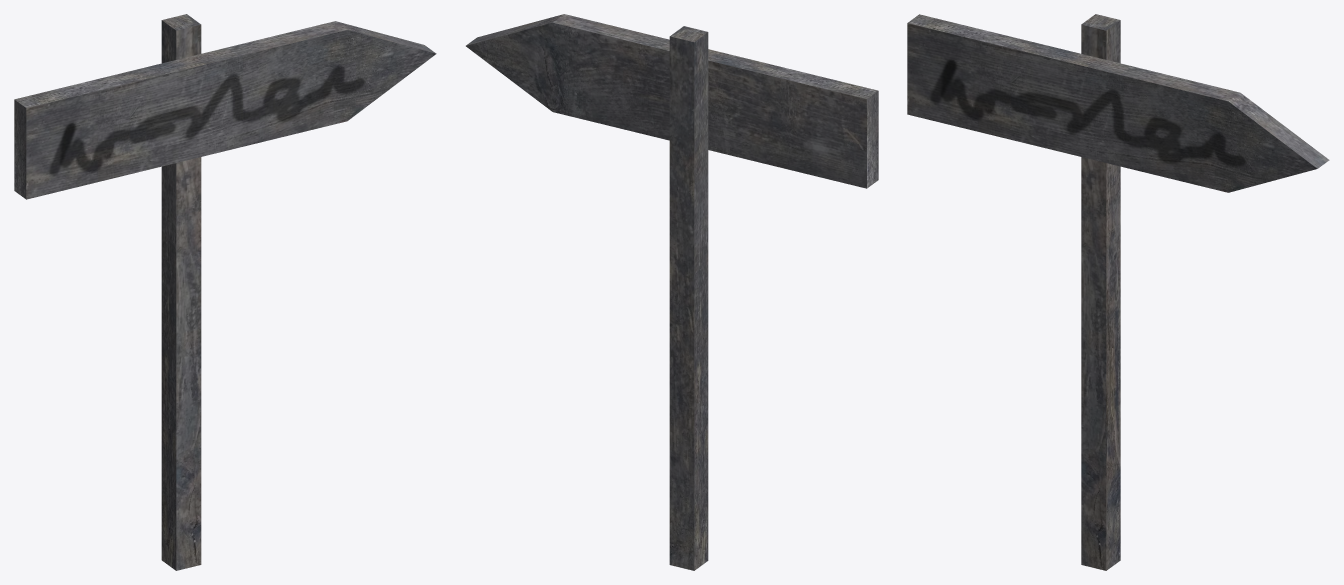
File: sign.glb
The picture shows the model from 3 angles, left to right: view 1: azimuth 30°, elevation 25°; view 2: azimuth 150°, elevation 25°; view 3: azimuth 330°, elevation 25°; orthographic projection. The views are drawn at different scales.
Parts seen in each view (by area): view 1: Sign; view 2: Sign; view 3: Sign.
Boxes of the visible parts, box(x1,y1,x2,y2) form: Sign: box(14, 14, 436, 570); Sign: box(466, 14, 878, 570); Sign: box(907, 14, 1329, 570).
Size of the model in its own units: 0.8317 by 1.05 by 0.0929.
1 material, 1 textured.
